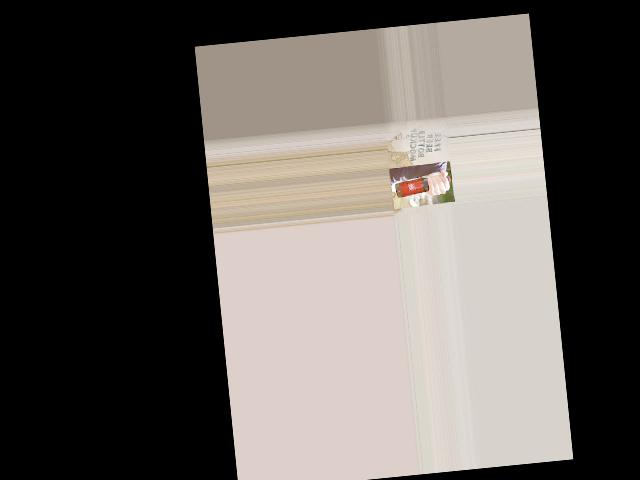beer: (394, 175, 451, 197)
